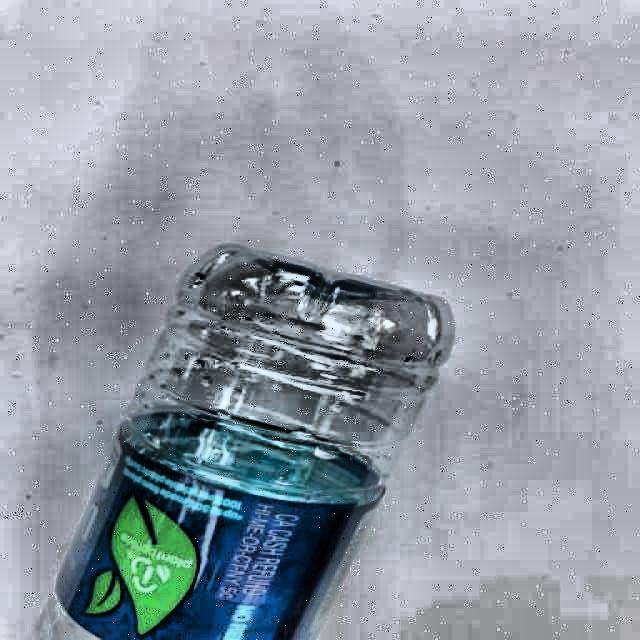plastic: (34, 245, 454, 639)
